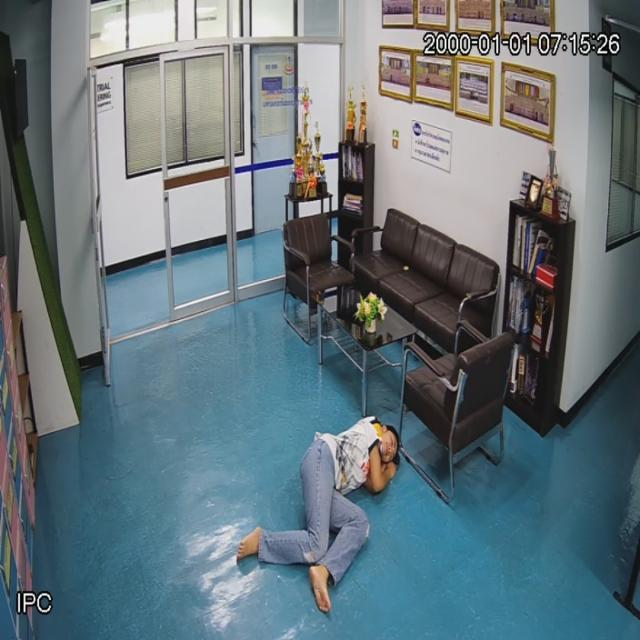fall: (252, 415, 400, 599)
